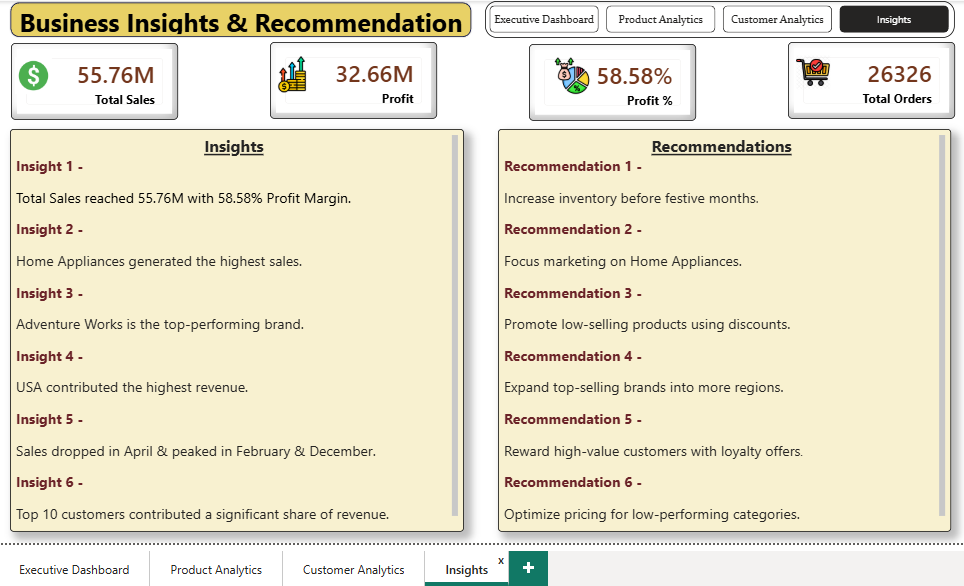

Layout of this report page (visuals, bound fields, positions):
{"tool":"powerbi","page":{"name":"Insights","canvas":[1280,720],"ordinal":3},"visuals":[{"type":"shape","box":[11.7,0,616.1,49.8],"z":0},{"type":"cardVisual","fields":{"Data":["Measures (2).Total Orders"]},"box":[1047.3,54.1,222.4,102.4],"z":0,"group":"g4"},{"type":"cardVisual","fields":{"Data":["Measures (2).Profit"]},"box":[358.2,54.8,222,102],"z":0,"group":"g2"},{"type":"cardVisual","fields":{"Data":["Measures (2).Total Sales"]},"box":[14.2,55.4,222,102],"z":0,"group":"g1"},{"type":"cardVisual","fields":{"Data":["Measures (2).Profit %"]},"box":[703.3,56.8,222,102],"z":0,"group":"g3"},{"type":"group","id":"g1","title":"Group 1","box":[14.2,55.4,222,102],"z":1000},{"type":"image","box":[1057.1,62.9,48.2,62.5],"z":1000,"group":"g4"},{"type":"image","box":[363.1,66.4,48.4,62.1],"z":1000,"group":"g2"},{"type":"image","box":[19.5,67,49.4,62.6],"z":1000,"group":"g1"},{"type":"image","box":[736.4,68,48.2,62.9],"z":1000,"group":"g3"},{"type":"group","id":"g2","title":"Group 2","box":[358.2,54.8,223.2,102.3],"z":2000},{"type":"group","id":"g3","title":"Group 3","box":[703.3,56.8,222,102],"z":3000},{"type":"group","id":"g4","title":"Group 4","box":[1047.3,54.1,221.6,102.7],"z":4000},{"type":"textbox","box":[13.5,170.3,602.7,535.1],"z":5000},{"type":"textbox","box":[662.2,170.3,602,535.1],"z":5001},{"type":"pageNavigator","box":[644.6,0,624.3,48.6],"z":5002}]}

Visuals, with their boxes in screenshot pixels (x1, y1, x2, y2):
shape: 11, 0, 469, 37
cardVisual - Measures (2).Total Orders: 780, 40, 946, 116
cardVisual - Measures (2).Profit: 269, 41, 433, 116
cardVisual - Measures (2).Total Sales: 13, 41, 178, 117
cardVisual - Measures (2).Profit %: 525, 42, 690, 118
"Group 1" group: 13, 41, 178, 117
image: 788, 47, 823, 93
image: 272, 49, 308, 95
image: 17, 50, 54, 96
image: 549, 51, 585, 97
"Group 2" group: 269, 41, 434, 117
"Group 3" group: 525, 42, 690, 118
"Group 4" group: 780, 40, 945, 116
textbox: 13, 126, 460, 524
textbox: 494, 126, 941, 524
pageNavigator: 481, 0, 945, 36
